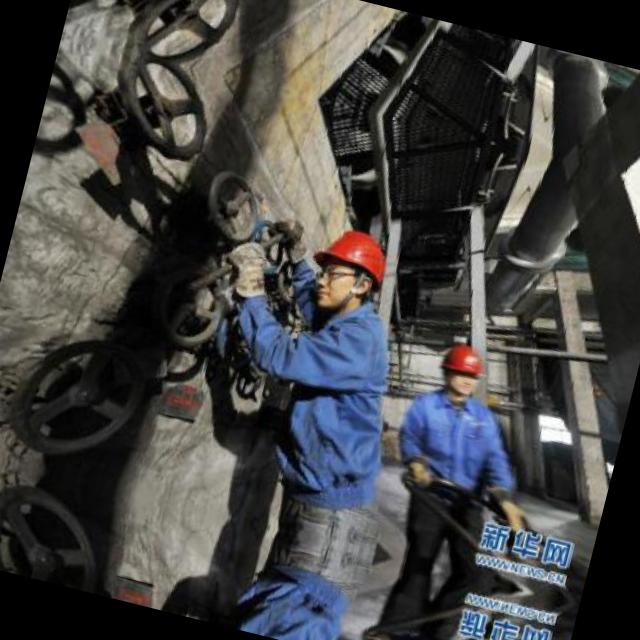helmet: (300, 220, 400, 318), (429, 337, 490, 402)
